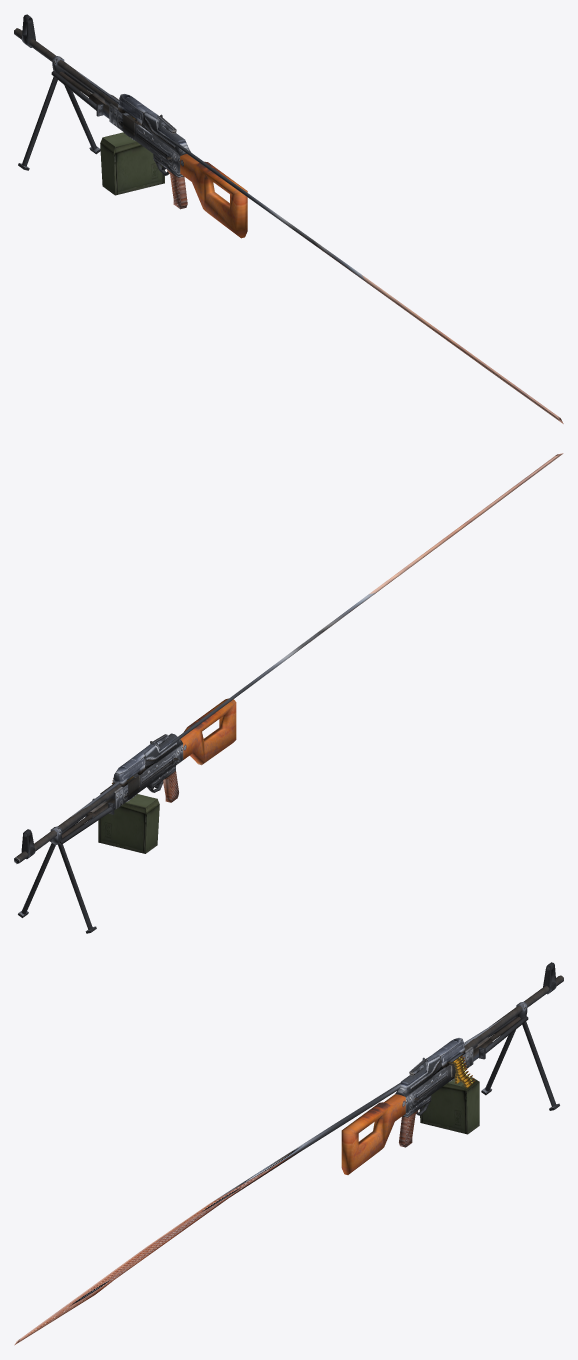
File: PKM.glb
The picture shows the model from 3 angles, top to bottom: view 1: azimuth 30°, elevation 25°; view 2: azimuth 150°, elevation 25°; view 3: azimuth 330°, elevation 25°; orthographic projection. The views are drawn at different scales.
Parts seen in each view (by area): view 1: PKM, Ammo_Box, Carry Handle, Dust Cover, Bipod Deployed, Barrel, Grip; view 2: PKM, Ammo_Box, Carry Handle, Dust Cover, Bipod Deployed, Barrel, Grip; view 3: PKM, Carry Handle, Ammo_Box, Dust Cover, Bipod Deployed, Barrel, Grip.
Part boxes in pixels (left/top/right/bottom): PKM: left=109, top=103, right=247, bottom=238; Ammo_Box: left=100, top=132, right=164, bottom=195; Carry Handle: left=76, top=70, right=563, bottom=423; Dust Cover: left=117, top=94, right=190, bottom=155; Bipod Deployed: left=18, top=76, right=100, bottom=170; Barrel: left=14, top=28, right=118, bottom=107; Grip: left=153, top=154, right=187, bottom=209; PKM: left=111, top=698, right=236, bottom=809; Ammo_Box: left=98, top=794, right=159, bottom=853; Carry Handle: left=71, top=453, right=563, bottom=816; Dust Cover: left=112, top=733, right=182, bottom=787; Bipod Deployed: left=18, top=843, right=96, bottom=933; Barrel: left=14, top=783, right=121, bottom=863; Grip: left=147, top=766, right=178, bottom=802; PKM: left=341, top=1047, right=473, bottom=1174; Carry Handle: left=14, top=1017, right=504, bottom=1345; Ammo_Box: left=419, top=1076, right=479, bottom=1134; Dust Cover: left=395, top=1038, right=465, bottom=1096; Bipod Deployed: left=481, top=1021, right=559, bottom=1110; Barrel: left=464, top=975, right=563, bottom=1050; Grip: left=399, top=1095, right=431, bottom=1147.
Bounding box in the file's own units: 0.8818 × 1.33 × 11.09.
1 material, 1 textured.
